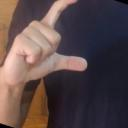hand: (3, 0, 87, 86)
